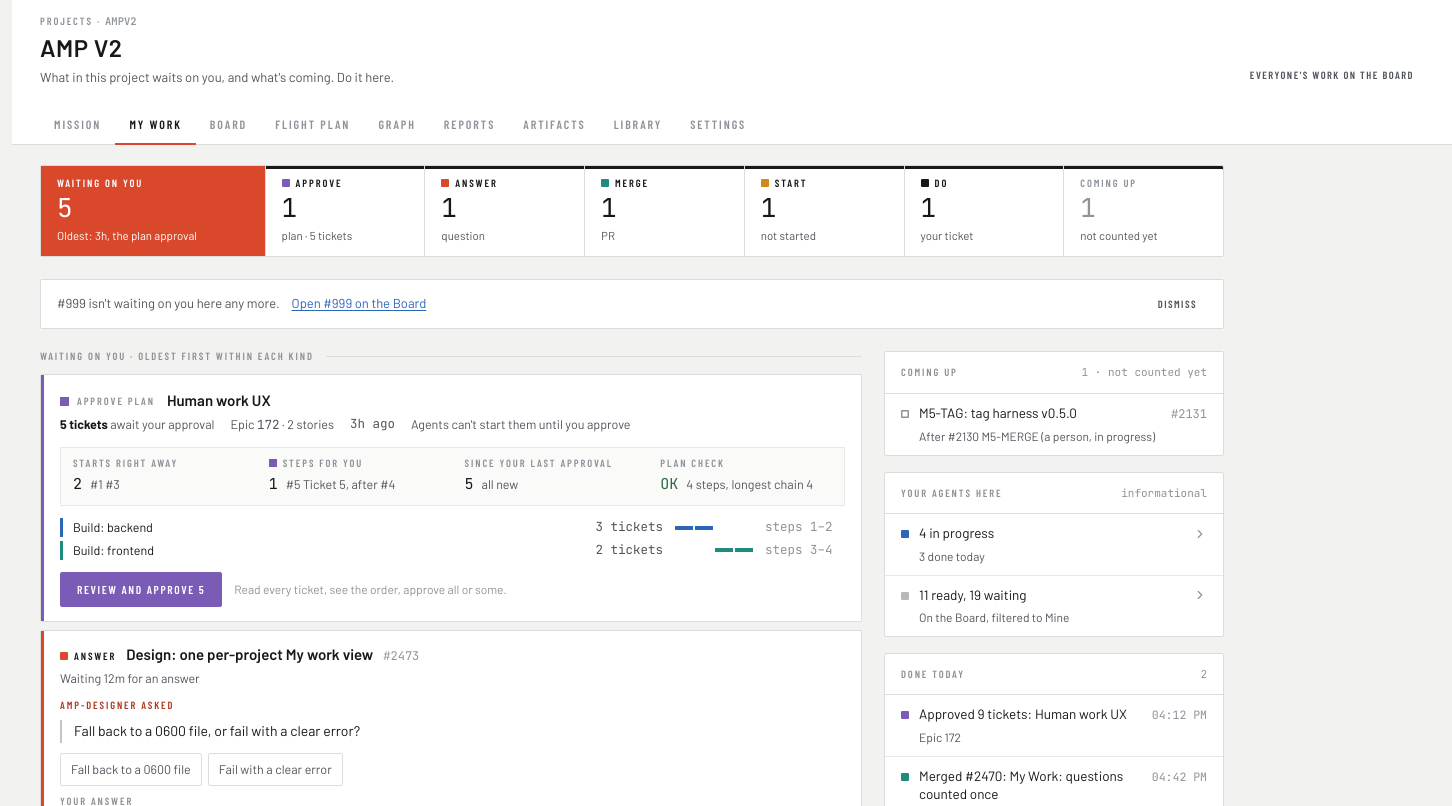
My work tab: ?focus= › a ticket not in the list gets a note with a Board link; dismiss clears the param
Check: the text "#999 isn't waiting on you here any more." is shown, box [57,294,280,314]
Step 1. Click the button "Dismiss" → click(1177, 304), box [1148,292,1207,316]
(page scrolled)
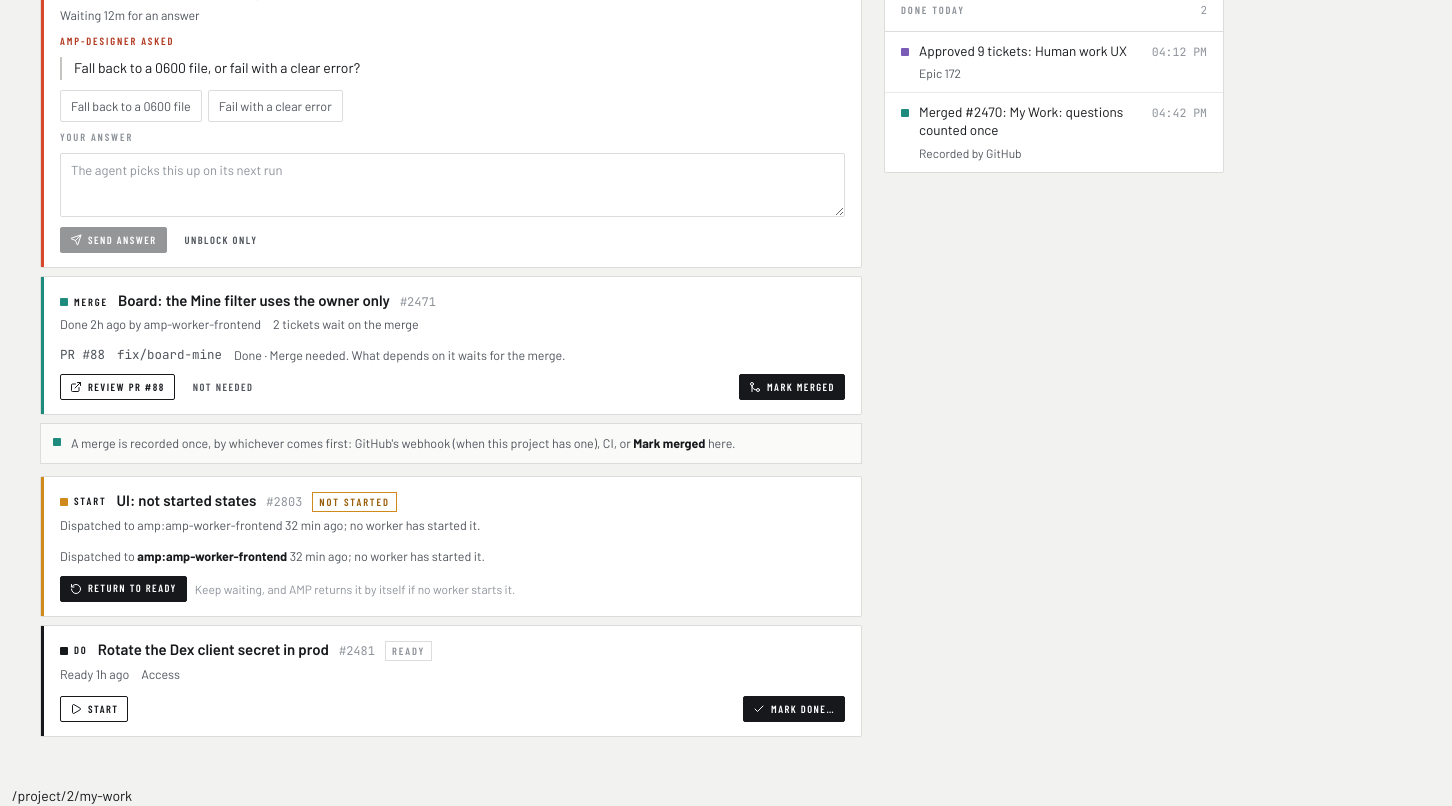
Check: the text with test id "where" reads "/project/2/my-work", box [12,787,132,804]
